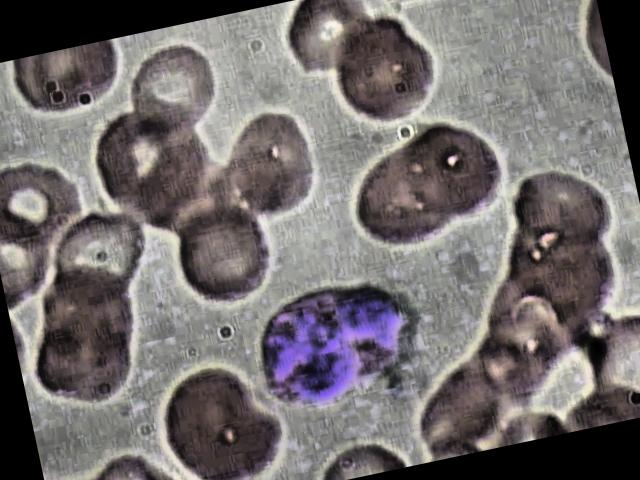RBC: (146, 346, 297, 480), (320, 5, 450, 137), (213, 100, 343, 232), (115, 32, 238, 148), (20, 302, 144, 415), (502, 155, 618, 271), (395, 114, 510, 230), (166, 200, 280, 316), (344, 142, 458, 258), (42, 199, 162, 306), (7, 40, 136, 133), (0, 147, 92, 263), (272, 0, 376, 87), (73, 442, 192, 480)
WBC: (233, 258, 424, 422)
